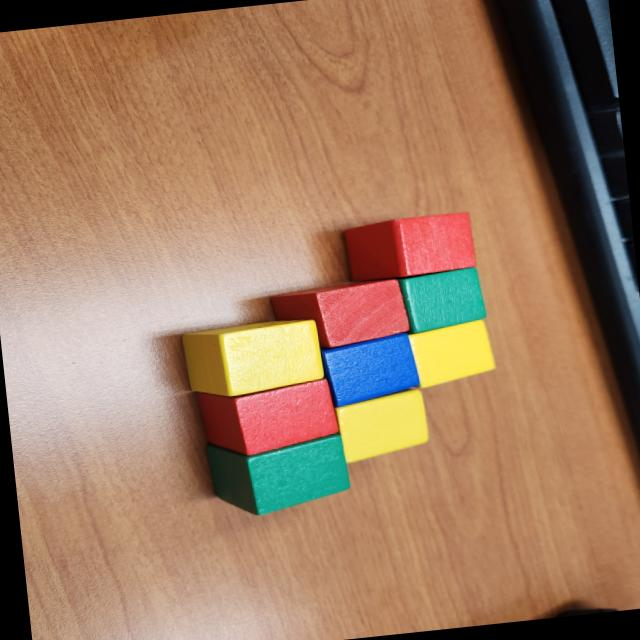blue: (321, 331, 424, 408)
green: (203, 430, 355, 522), (397, 264, 488, 336)
red: (194, 377, 341, 460), (272, 276, 412, 354), (336, 209, 478, 283)
yellow: (180, 316, 325, 402), (336, 388, 431, 465), (404, 318, 500, 388)
